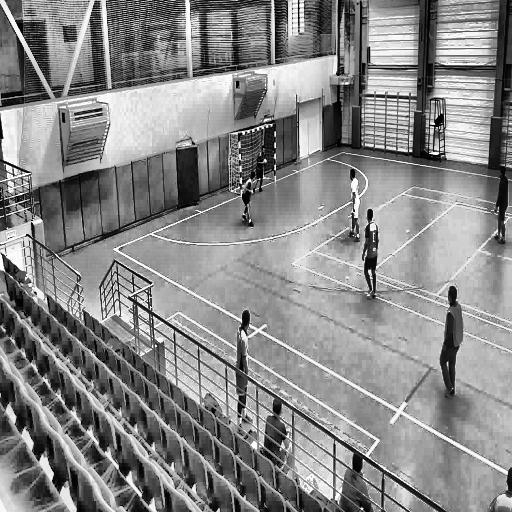ball: (262, 158, 267, 166)
player: (439, 282, 463, 399), (234, 308, 253, 435), (362, 209, 380, 306), (490, 164, 509, 249), (239, 171, 256, 228), (347, 167, 360, 239), (255, 143, 267, 193)
